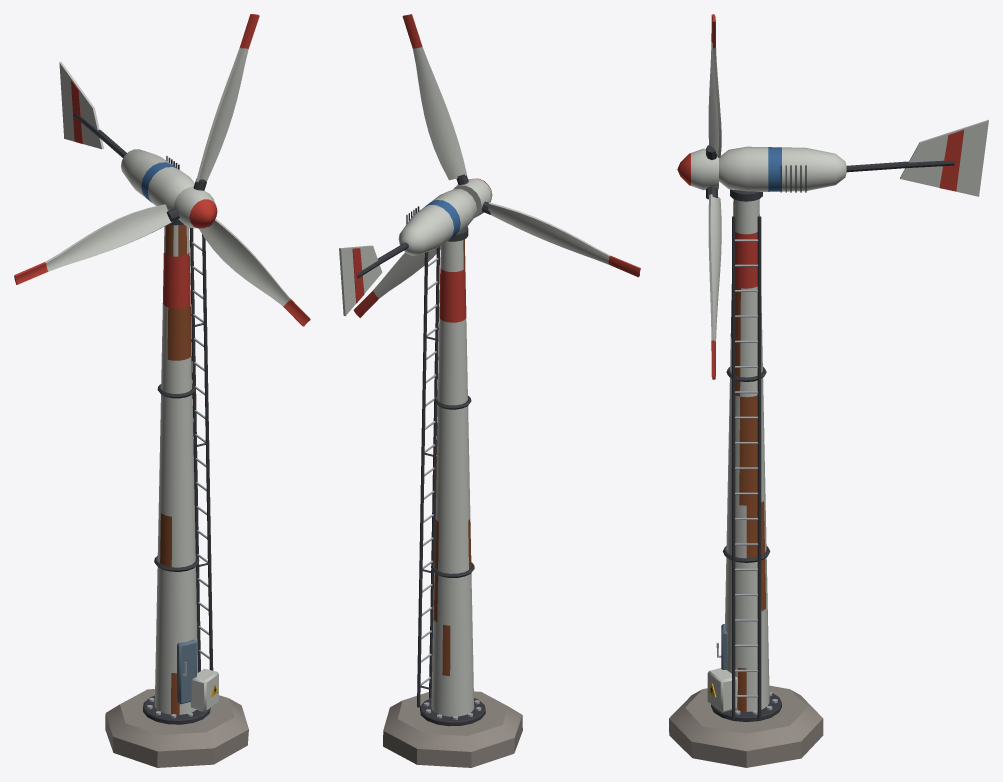
Rendered from deco_wind_turbine.fbx.
3 views of the same model, side by side, from view 1: azimuth 30°, elevation 25°; view 2: azimuth 150°, elevation 25°; view 3: azimuth 270°, elevation 25° (orthographic). The views are drawn at different scales.
Visible parts, largest first — view 1: WindTurbine_Tower, WindTurbine_Rotor, WindTurbine_Nacelle; view 2: WindTurbine_Tower, WindTurbine_Rotor, WindTurbine_Nacelle; view 3: WindTurbine_Tower, WindTurbine_Nacelle, WindTurbine_Rotor.
Boxes of the visible parts, bbox=[...] form: WindTurbine_Tower: bbox=[105, 224, 248, 767]; WindTurbine_Rotor: bbox=[14, 14, 310, 326]; WindTurbine_Nacelle: bbox=[59, 61, 194, 225]; WindTurbine_Tower: bbox=[383, 239, 522, 767]; WindTurbine_Rotor: bbox=[353, 14, 640, 317]; WindTurbine_Nacelle: bbox=[339, 188, 476, 316]; WindTurbine_Tower: bbox=[669, 199, 823, 767]; WindTurbine_Nacelle: bbox=[719, 119, 988, 201]; WindTurbine_Rotor: bbox=[677, 14, 721, 379].
Size of the model in its own units: 359 by 837 by 323.
